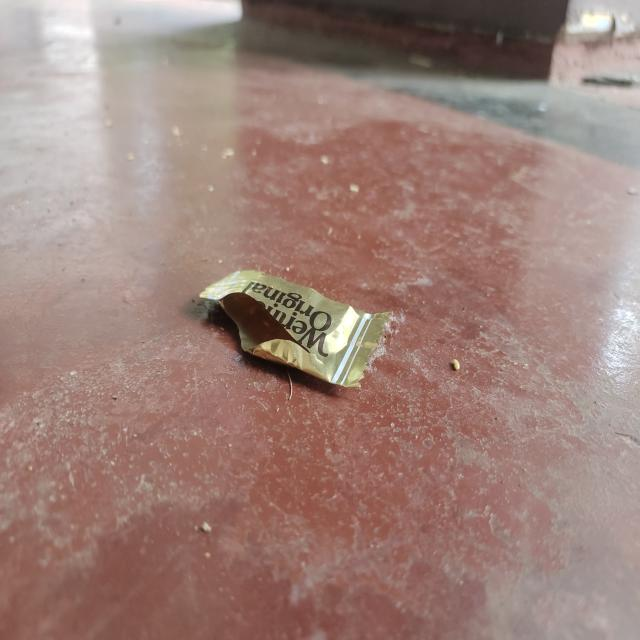plastic: (199, 268, 390, 392)
